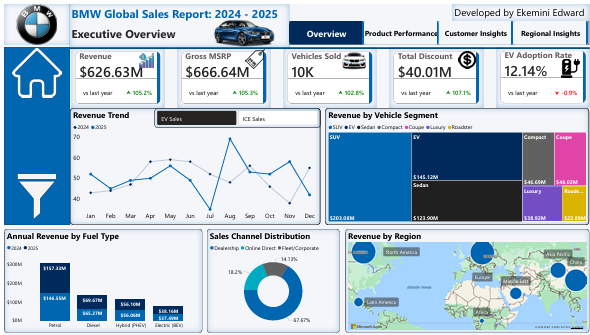

The page's visual inventory and layout, read from the dashboard file:
{"tool":"powerbi","page":{"name":"Overview","canvas":[1920,1080],"ordinal":0},"visuals":[{"type":"cardVisual","fields":{"Data":["_Measures.Revenue"]},"box":[219.6,143.4,305,197],"z":0},{"type":"cardVisual","fields":{"Data":["_Measures.Gross MSRP"]},"box":[568.1,143.4,305,197],"z":1000},{"type":"cardVisual","fields":{"Data":["_Measures.Vehicles Sold"]},"box":[916.7,143.4,304.7,197.2],"z":2000},{"type":"cardVisual","fields":{"Data":["_Measures.Total Discount"]},"box":[1265,143.4,307,197.2],"z":3000},{"type":"cardVisual","fields":{"Data":["_Measures.EV Adoption Rate"]},"box":[1615,141.2,305,197.2],"z":4000},{"type":"shape","box":[0,141.2,215.1,582.6],"z":5000},{"type":"lineChart","title":"Revenue Trend ","fields":{"Y":["_Measures.EV Sales"],"Category":["Date.Month Name Short"],"Series":["Date.Year"]},"box":[215.1,340.6,822.3,383.2],"z":6000},{"type":"advancedSlicerVisual","fields":{"Values":["EV vs ICE.EV vs ICE"]},"box":[492.9,340.6,544.5,65],"z":7000},{"type":"azureMap","title":"Revenue by Region","fields":{"Category":["Dim_Geography.region"],"Size":["_Measures.Revenue"]},"box":[1120.3,739.4,799.9,340.6],"z":8000},{"type":"donutChart","title":"Sales Channel Distribution","fields":{"Category":["Transaction_Fact.sales_channel"],"Y":["_Measures.Revenue"]},"box":[665.5,739.4,434.7,340.6],"z":9000},{"type":"columnChart","title":"Annual Revenue by Fuel Type","fields":{"Category":["Transaction_Fact.fuel_type"],"Y":["_Measures.Revenue"],"Series":["Date.Year"]},"box":[0,739.4,649.8,340.6],"z":10000},{"type":"treemap","title":"Revenue by Vehicle Segment","fields":{"Values":["_Measures.Revenue"],"Group":["Transaction_Fact.segment"]},"box":[1053.6,341.6,866.2,383.5],"z":11000},{"type":"shape","box":[215.1,125.5,1705.1,38.1],"z":12000},{"type":"image","box":[678.9,48.5,220.4,97],"z":13000},{"type":"image","box":[0,0,216,134.4],"z":14000},{"type":"textbox","box":[216,0,718.5,141.1],"z":15000},{"type":"image","box":[0,145.6,215.1,161.3],"z":16000},{"type":"pageNavigator","box":[934.5,55.1,985.2,79.3],"z":17000},{"type":"image","box":[0,560.2,215.1,145.6],"z":17000,"group":"g1"},{"type":"group","id":"g1","title":"Overview Filter ","box":[0,141.1,451.8,897.1],"z":18000},{"type":"image","box":[429.8,163.1,79.3,48.5],"z":19000},{"type":"image","box":[789.1,147.7,70.5,63.9],"z":20000},{"type":"image","box":[1099.8,154.3,99.2,63.9],"z":21000},{"type":"image","box":[1822.8,180.7,70.5,59.5],"z":22000},{"type":"image","box":[1485.6,154.3,68.3,57.3],"z":23000},{"type":"textbox","box":[1472.3,0,447.4,55.1],"z":24000}]}

Visuals, with their boxes in screenshot pixels (x1, y1, x2, y2), scaled from the page's 1920x1080 canvas onto the 590x335 screenshot:
cardVisual - _Measures.Revenue: Rect(67, 44, 161, 106)
cardVisual - _Measures.Gross MSRP: Rect(175, 44, 268, 106)
cardVisual - _Measures.Vehicles Sold: Rect(282, 44, 375, 106)
cardVisual - _Measures.Total Discount: Rect(389, 44, 483, 106)
cardVisual - _Measures.EV Adoption Rate: Rect(496, 44, 589, 105)
shape: Rect(0, 44, 66, 225)
"Revenue Trend " lineChart: Rect(66, 106, 319, 225)
advancedSlicerVisual - EV vs ICE.EV vs ICE: Rect(151, 106, 319, 126)
"Revenue by Region" azureMap: Rect(344, 229, 589, 334)
"Sales Channel Distribution" donutChart: Rect(205, 229, 338, 334)
"Annual Revenue by Fuel Type" columnChart: Rect(0, 229, 200, 334)
"Revenue by Vehicle Segment" treemap: Rect(324, 106, 589, 225)
shape: Rect(66, 39, 589, 51)
image: Rect(209, 15, 276, 45)
image: Rect(0, 0, 66, 42)
textbox: Rect(66, 0, 287, 44)
image: Rect(0, 45, 66, 95)
pageNavigator: Rect(287, 17, 589, 42)
image: Rect(0, 174, 66, 219)
"Overview Filter " group: Rect(0, 44, 139, 322)
image: Rect(132, 51, 156, 66)
image: Rect(242, 46, 264, 66)
image: Rect(338, 48, 368, 68)
image: Rect(560, 56, 582, 75)
image: Rect(457, 48, 478, 66)
textbox: Rect(452, 0, 589, 17)
